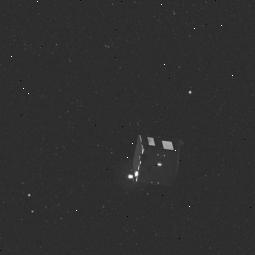proba_3_ocs: (122, 124, 187, 192)
